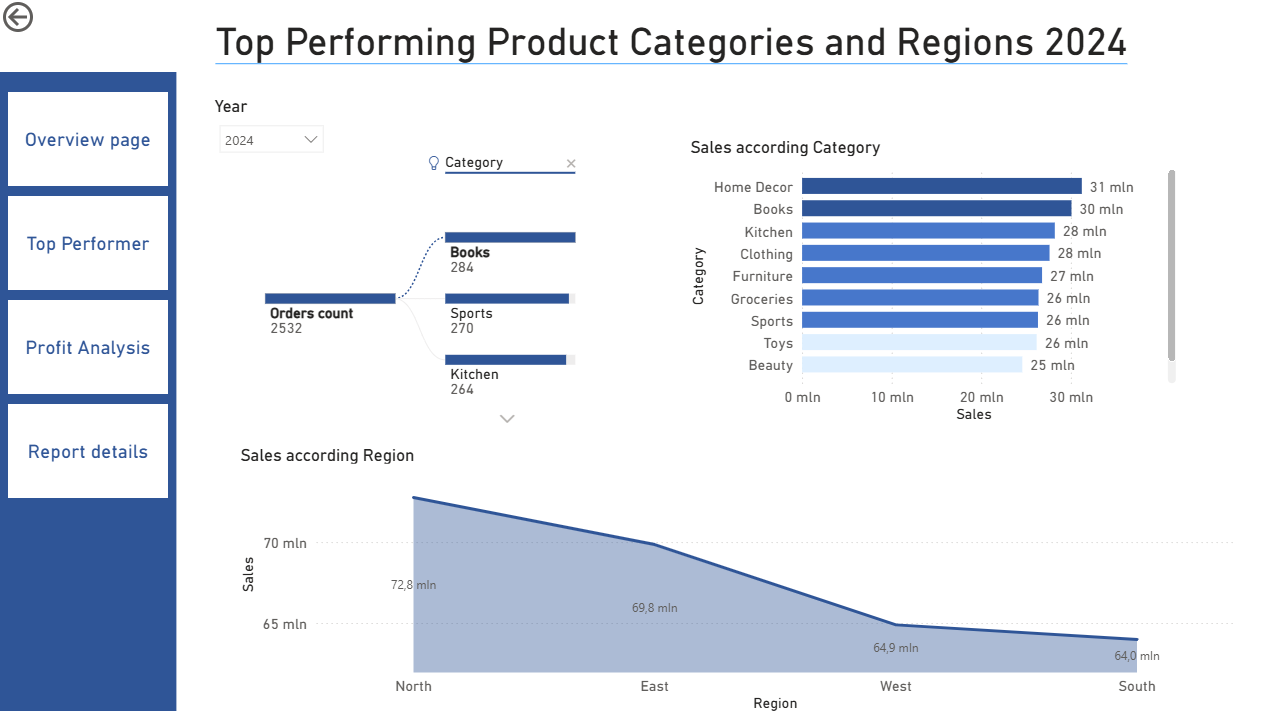

Layout of this report page (visuals, bound fields, positions):
{"tool":"powerbi","page":{"name":"Top Performer","canvas":[1280,720],"ordinal":1},"visuals":[{"type":"textbox","box":[0,74.7,178.1,645.3],"z":0,"group":"g3"},{"type":"clusteredBarChart","title":"Sales according Category","fields":{"Category":["Ecommerce_Sales_Data_2024_2025.Category"],"Y":["Sum(Ecommerce_Sales_Data_2024_2025.Sales)"]},"box":[687.9,140.2,495.6,290.2],"z":0},{"type":"textbox","box":[212.1,17.3,950.8,64.9],"z":1000},{"type":"stackedAreaChart","title":"Sales according Region","fields":{"Category":["Ecommerce_Sales_Data_2024_2025.Region"],"Y":["Sum(Ecommerce_Sales_Data_2024_2025.Sales)"]},"box":[237.8,447.4,1003.3,272],"z":2000},{"type":"decompositionTreeVisual","fields":{"Analyze":["# Miary.# Orders count"],"ExplainBy":["Ecommerce_Sales_Data_2024_2025.Category"]},"box":[237.8,139.7,402.8,291.3],"z":3000},{"type":"slicer","title":"Year","fields":{"Values":["Kalendarz.Year"]},"box":[211.4,98.6,124.3,82.9],"z":4000},{"type":"actionButton","box":[0,0,100,40],"z":5000},{"type":"group","id":"g1","title":"Grupa 1","box":[0,74.7,178.1,645.3],"z":5001},{"type":"group","id":"g2","title":"Grupa 2","box":[0,74.7,178.1,645.3],"z":8001,"group":"g1"},{"type":"group","id":"g3","title":"Grupa 3","box":[0,74.7,178.1,645.3],"z":8001,"group":"g2"},{"type":"pageNavigator","box":[9.4,95,160.9,409.4],"z":9000,"group":"g3"}]}

Visuals, with their boxes in screenshot pixels (x1, y1, x2, y2), scaled from the page's 1280x720 canvas onto the 1272x711 screenshot:
textbox: {"left": 0, "top": 74, "right": 177, "bottom": 710}
"Sales according Category" clusteredBarChart: {"left": 684, "top": 138, "right": 1176, "bottom": 425}
textbox: {"left": 211, "top": 17, "right": 1156, "bottom": 81}
"Sales according Region" stackedAreaChart: {"left": 236, "top": 442, "right": 1233, "bottom": 710}
decompositionTreeVisual - # Miary.# Orders count x Ecommerce_Sales_Data_2024_2025.Category: {"left": 236, "top": 138, "right": 637, "bottom": 426}
"Year" slicer: {"left": 210, "top": 97, "right": 334, "bottom": 179}
actionButton: {"left": 0, "top": 0, "right": 99, "bottom": 40}
"Grupa 1" group: {"left": 0, "top": 74, "right": 177, "bottom": 710}
"Grupa 2" group: {"left": 0, "top": 74, "right": 177, "bottom": 710}
"Grupa 3" group: {"left": 0, "top": 74, "right": 177, "bottom": 710}
pageNavigator: {"left": 9, "top": 94, "right": 169, "bottom": 498}
